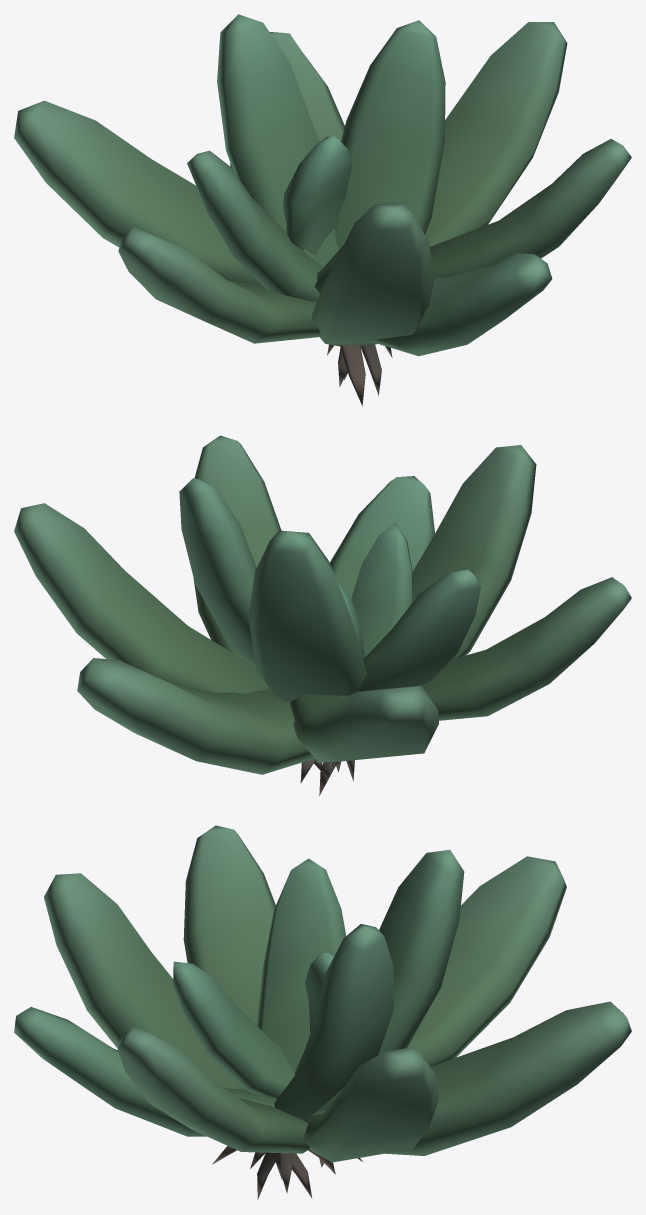
File: plants-cacti-succulents-teal-succulent_v1.fbx
The picture shows the model from 3 angles, top to bottom: view 1: azimuth 30°, elevation 25°; view 2: azimuth 150°, elevation 25°; view 3: azimuth 270°, elevation 25°; orthographic projection. The views are drawn at different scales.
Parts seen in each view (by area): view 1: Teal Succulent_v1; view 2: Teal Succulent_v1; view 3: Teal Succulent_v1.
Part boxes in pixels (box(x1,y1,x2,y2)): Teal Succulent_v1: box(14, 14, 631, 406); Teal Succulent_v1: box(14, 435, 631, 795); Teal Succulent_v1: box(14, 825, 631, 1199).
Size of the model in its own units: 0.15 by 0.0883 by 0.1496.
